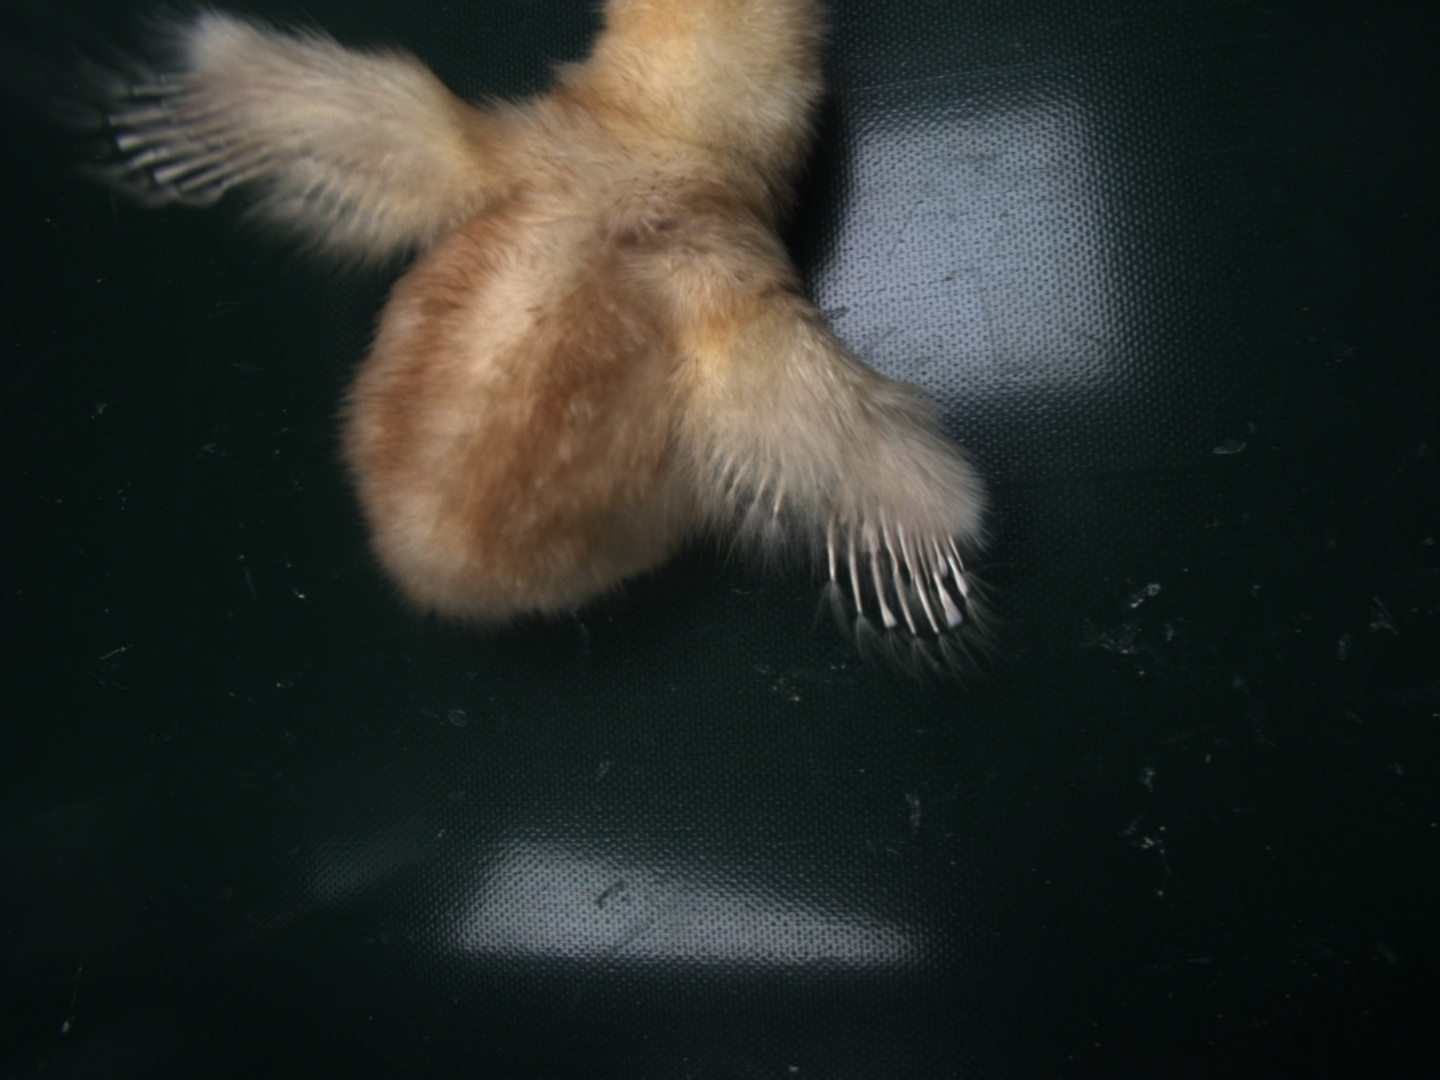female: (823, 497, 979, 638), (113, 71, 272, 193)
